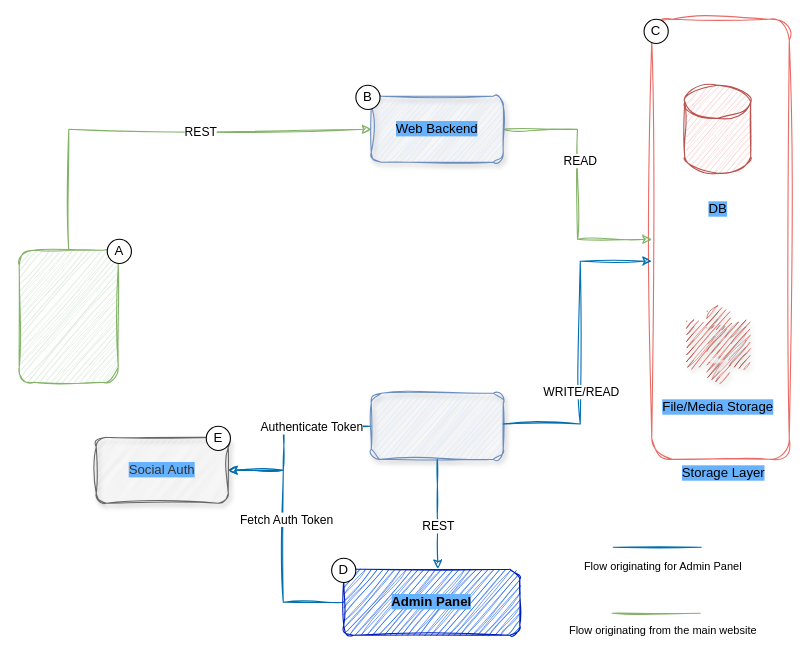
Image size: 809x666. Some labels were removed from this diagram. The centre of each missing label's shape, as x and y in pixels:
"Admin Backend" goes at point (438, 427).
"Website" goes at point (68, 315).
